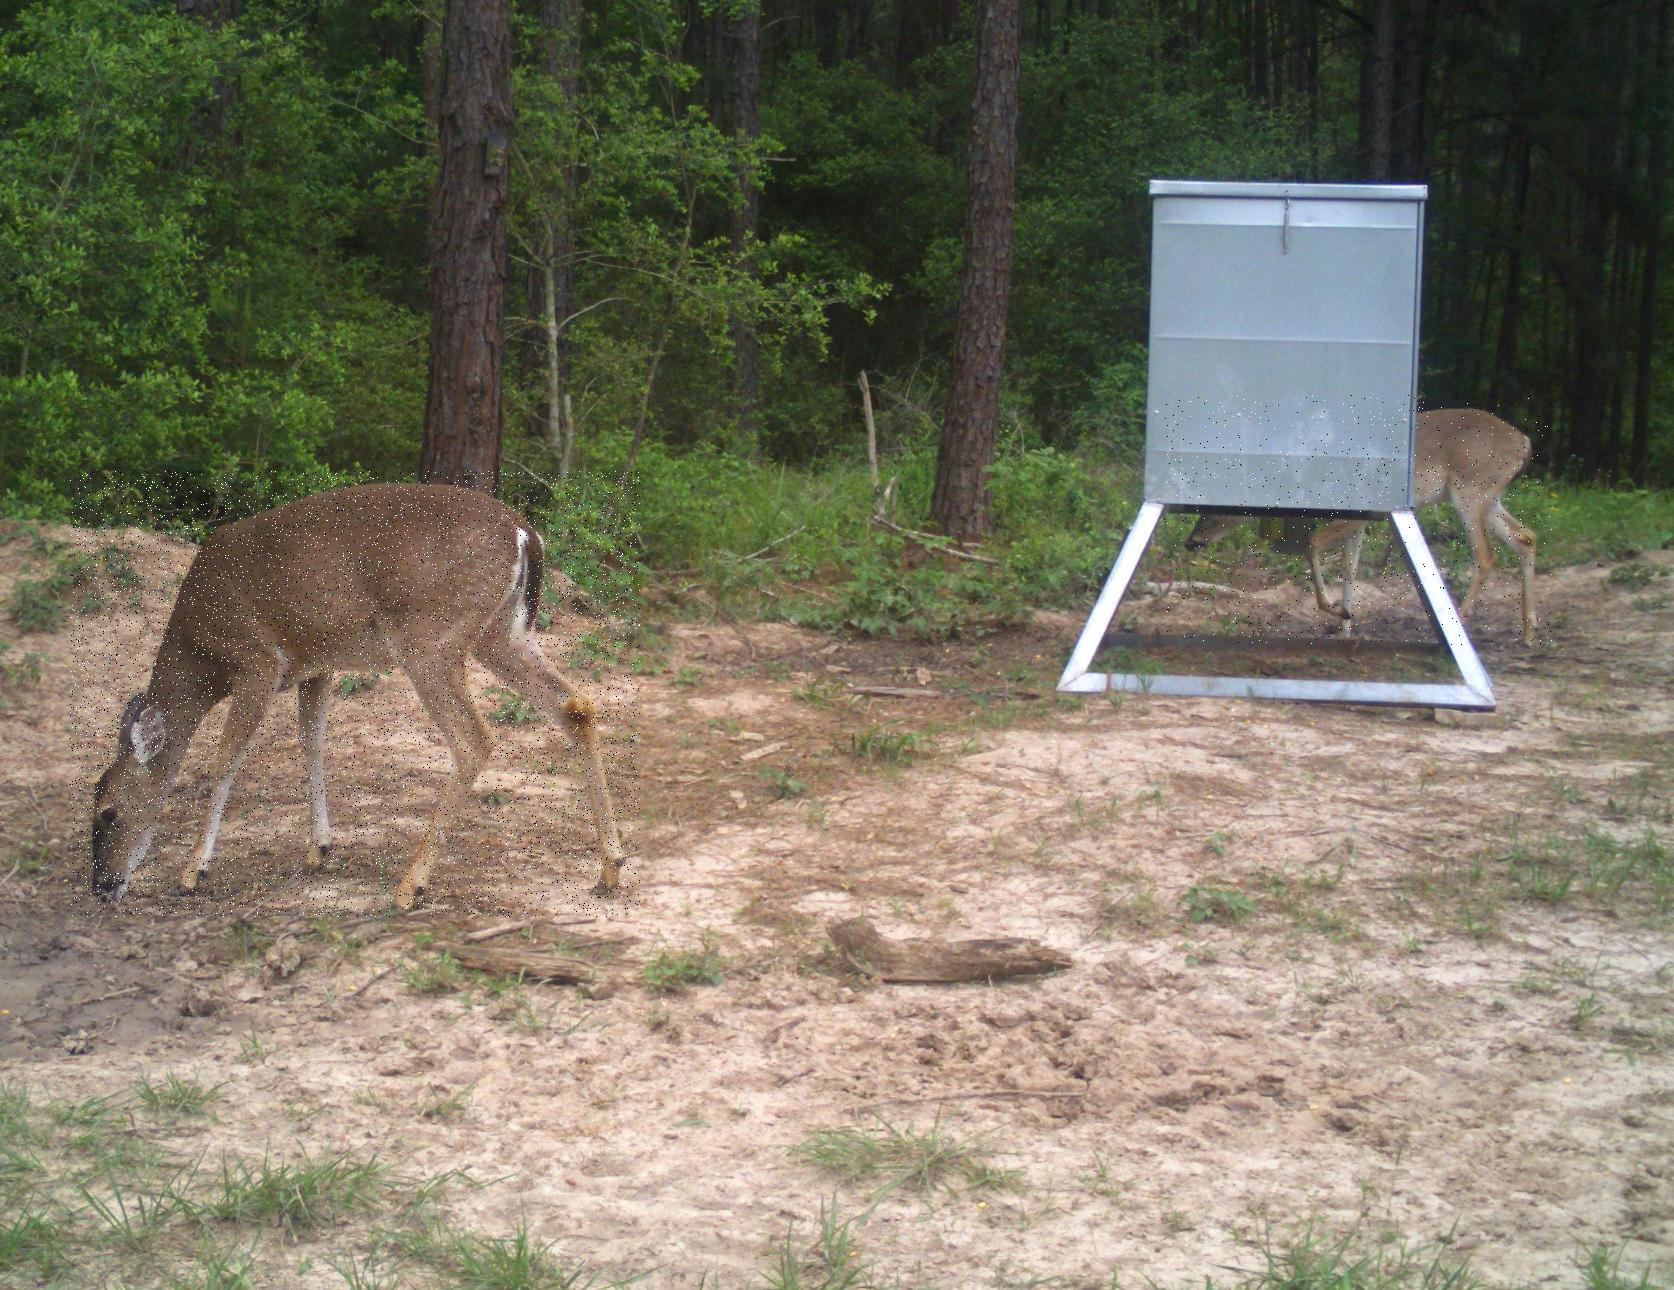Deer: (70, 472, 641, 917), (1163, 396, 1552, 645)
